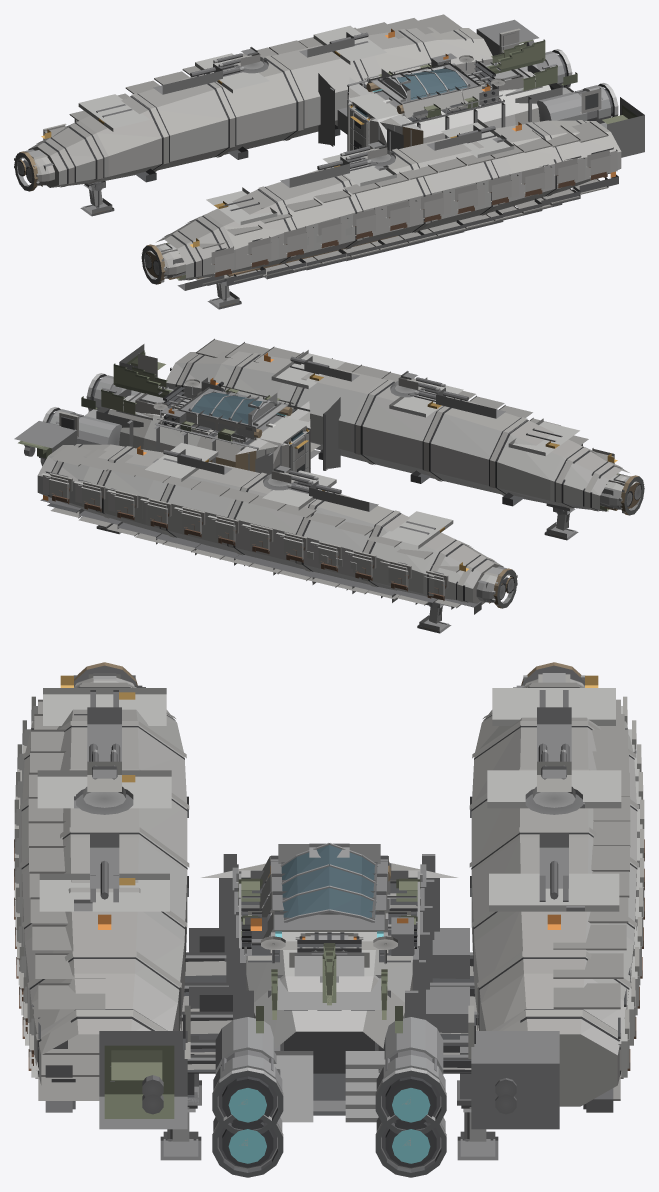
The model's file is fimbul_mamba_ex.glb.
3 renders of one model, top to bottom at view 1: azimuth 30°, elevation 25°; view 2: azimuth 150°, elevation 25°; view 3: azimuth 270°, elevation 25°, orthographic. The views are drawn at different scales.
Visible parts, largest first — view 1: pod_r, pod_l, center_hull, rear_block, engines, greebles, canopy, rail_guns_r, rail_guns_l, gun_r, gun_l, leg_1 (+4 smaller); view 2: pod_l, pod_r, center_hull, rear_block, greebles, engines, canopy, rail_guns_r, rail_guns_l, gun_r, gun_l, ramp (+4 smaller); view 3: pod_l, pod_r, rear_block, center_hull, engines, canopy, thrusters, wing_root_r, rail_guns_r, rail_guns_l, greebles, wing_root_l (+8 smaller).
Part boxes in pixels (x1=…): pod_r: x1=156, y1=119, x2=621, y2=290; pod_l: x1=28, y1=14, x2=492, y2=187; center_hull: x1=318, y1=53, x2=550, y2=151; rear_block: x1=474, y1=19, x2=644, y2=157; engines: x1=519, y1=49, x2=618, y2=128; greebles: x1=135, y1=39, x2=577, y2=278; canopy: x1=381, y1=66, x2=470, y2=101; rail_guns_r: x1=280, y1=125, x2=495, y2=187; rail_guns_l: x1=153, y1=32, x2=368, y2=94; gun_r: x1=141, y1=242, x2=185, y2=284; gun_l: x1=14, y1=149, x2=54, y2=191; leg_1: x1=80, y1=181, x2=114, y2=216; pod_l: x1=37, y1=443, x2=503, y2=614; pod_r: x1=166, y1=338, x2=629, y2=511; center_hull: x1=108, y1=377, x2=340, y2=475; rear_block: x1=14, y1=344, x2=184, y2=459; greebles: x1=81, y1=363, x2=523, y2=506; engines: x1=40, y1=373, x2=139, y2=466; canopy: x1=188, y1=390, x2=277, y2=425; rail_guns_r: x1=290, y1=356, x2=505, y2=418; rail_guns_l: x1=163, y1=449, x2=378, y2=511; gun_r: x1=600, y1=473, x2=644, y2=515; gun_l: x1=476, y1=566, x2=517, y2=608; ramp: x1=289, y1=432, x2=308, y2=472; pod_l: x1=457, y1=682, x2=644, y2=1112; pod_r: x1=14, y1=682, x2=201, y2=1112; rear_block: x1=99, y1=940, x2=559, y2=1129; center_hull: x1=189, y1=854, x2=469, y2=1048; engines: x1=212, y1=1017, x2=446, y2=1177; canopy: x1=278, y1=843, x2=380, y2=922; thrusters: x1=228, y1=1088, x2=430, y2=1163; wing_root_r: x1=180, y1=952, x2=232, y2=1073; rail_guns_r: x1=87, y1=707, x2=121, y2=899; rail_guns_l: x1=537, y1=707, x2=571, y2=899; greebles: x1=187, y1=796, x2=471, y2=1115; wing_root_l: x1=430, y1=952, x2=478, y2=1073.
Bounding box in the file's own units: 38.05 × 8.98 × 23.58.
